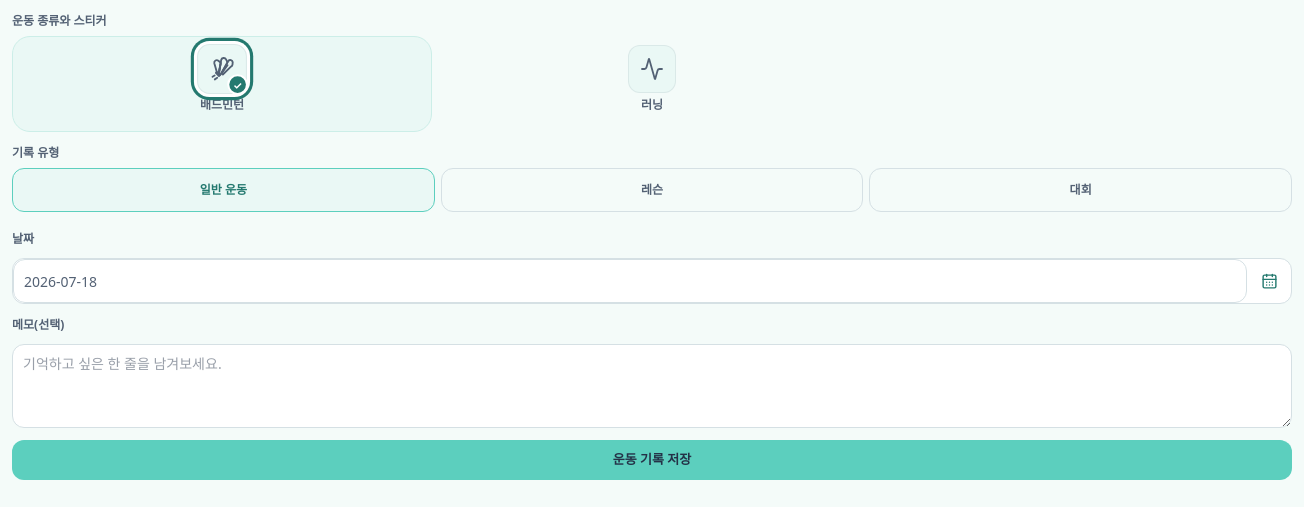
it: ExerciseStickerPicker › moves selection away from a sticker already recorded in the newly selected type
The width and height of the screenshot is (1304, 507).
Click the radio button labelled "레슨".
click(652, 193)  # box [441,168,863,218]
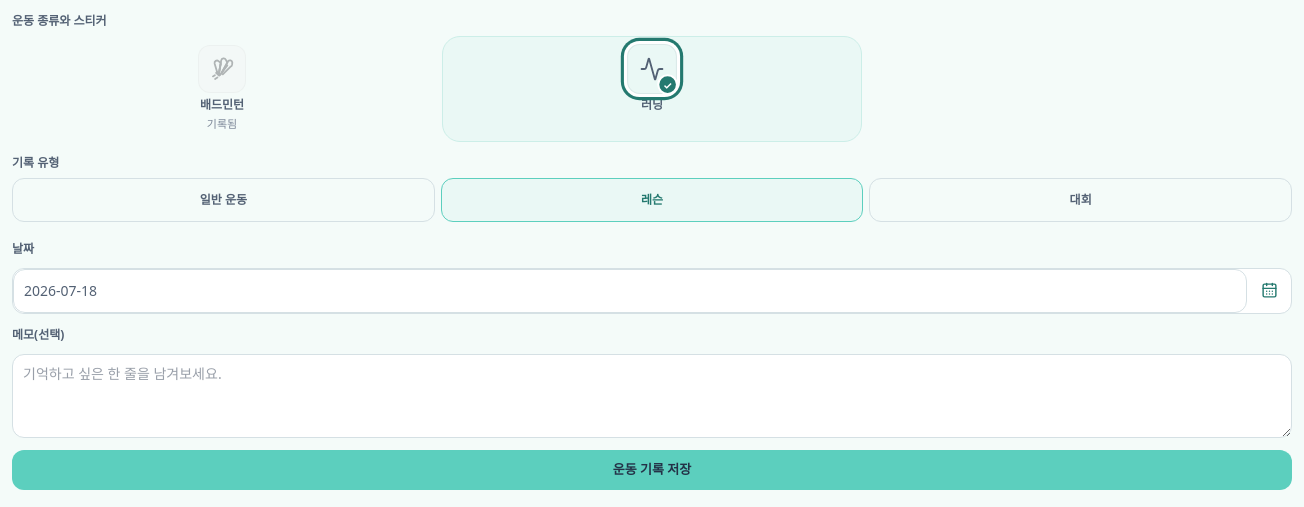
Result: the button with aria-label "배드민턴 선택, 이미 기록됨" is disabled at [12,36,432,142]
